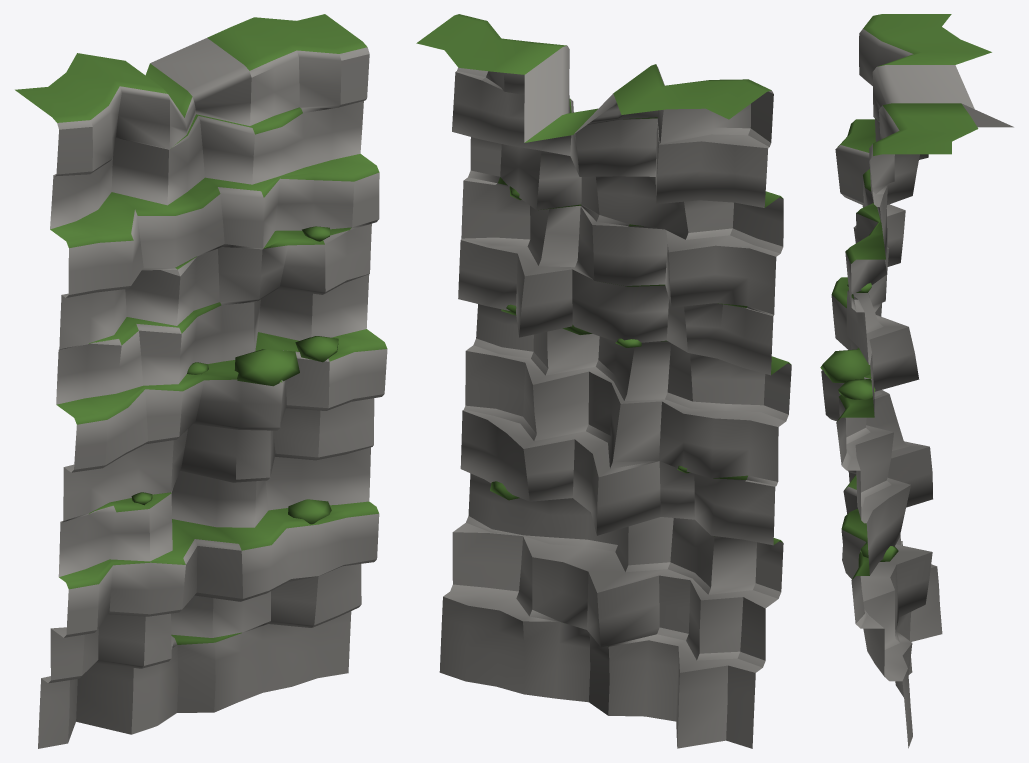
File: cliff_notch_75_lod1.glb
3 renders of one model, left to right at view 1: azimuth 30°, elevation 25°; view 2: azimuth 150°, elevation 25°; view 3: azimuth 270°, elevation 25°, orthographic. The views are drawn at different scales.
Visible parts, largest first — view 1: cliff_notch_75_lod1; view 2: cliff_notch_75_lod1; view 3: cliff_notch_75_lod1.
Boxes of the visible parts, box(x1,y1,x2,y2) form: cliff_notch_75_lod1: box(15, 14, 387, 748); cliff_notch_75_lod1: box(416, 14, 791, 748); cliff_notch_75_lod1: box(820, 14, 1013, 748).
Size of the model in its own units: 40 by 79 by 23.41.
